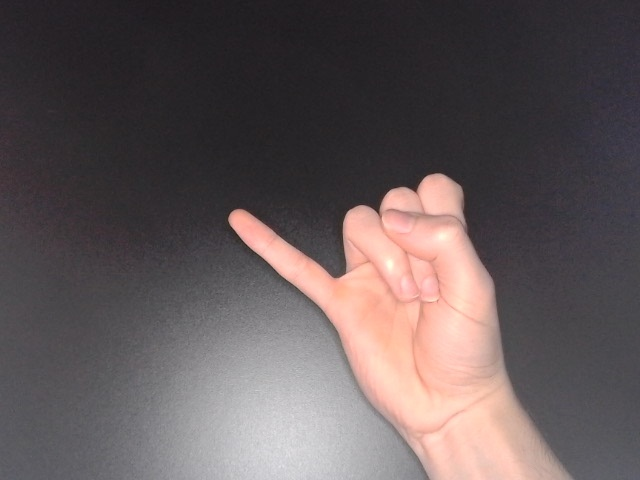j: (223, 169, 511, 446)
